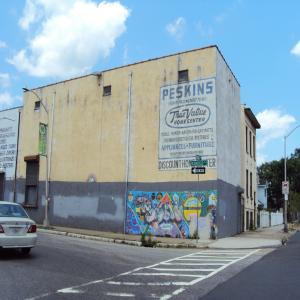Vehicle-registration-plate: (13, 229, 21, 234)
